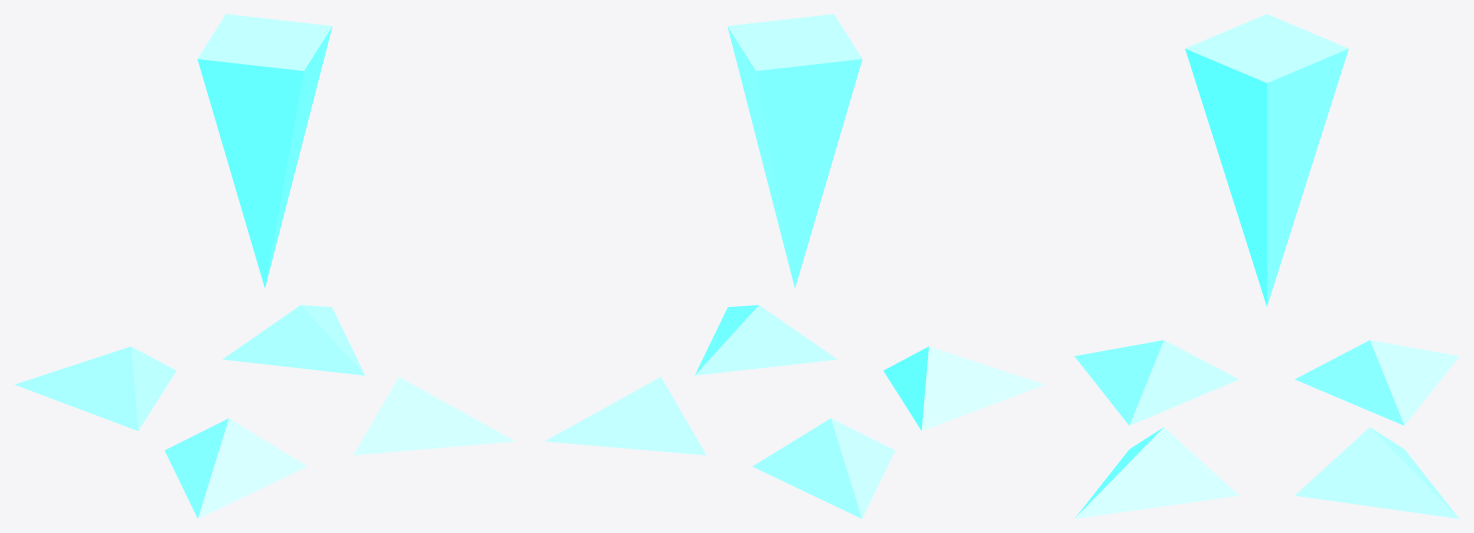
Rendered from marker.gltf.
3 views of the same model, side by side, from view 1: azimuth 30°, elevation 25°; view 2: azimuth 150°, elevation 25°; view 3: azimuth 270°, elevation 25° (orthographic). The views are drawn at different scales.
Parts seen in each view (by area): view 1: marker; view 2: marker; view 3: marker.
Boxes of the visible parts, x1=… form: marker: x1=15, y1=14, x2=514, y2=518; marker: x1=545, y1=14, x2=1044, y2=518; marker: x1=1074, y1=14, x2=1459, y2=518.
Size of the model in its own units: 1.39 by 1.55 by 1.39.
